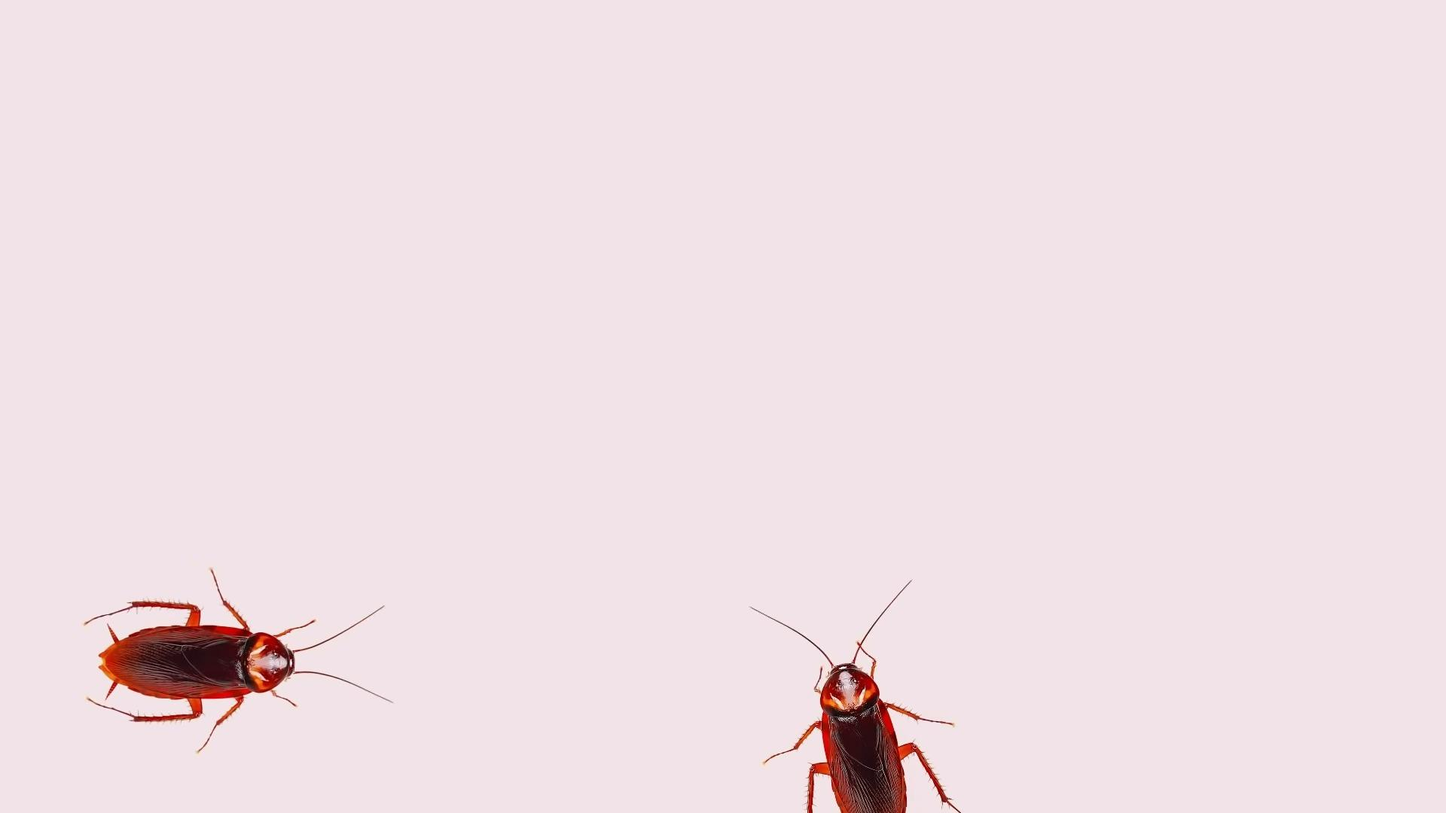cockroach: (726, 588, 994, 813), (66, 568, 372, 753)
